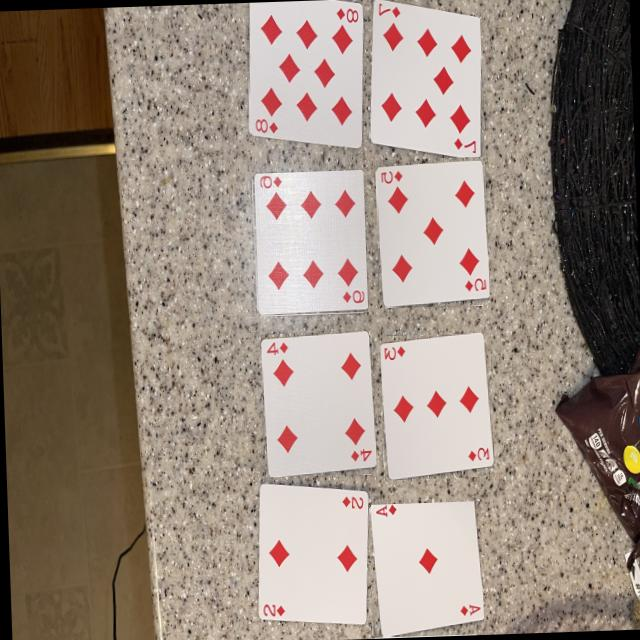2 of diamonds: (257, 484, 367, 624)
4 of diamonds: (260, 332, 375, 477)
5 of diamonds: (375, 161, 488, 307)
6 of diamonds: (252, 170, 366, 315)
7 of diamonds: (368, 0, 479, 157)
8 of diamonds: (247, 0, 361, 147)
Ace of diamonds: (379, 332, 492, 480), (369, 502, 482, 636)
